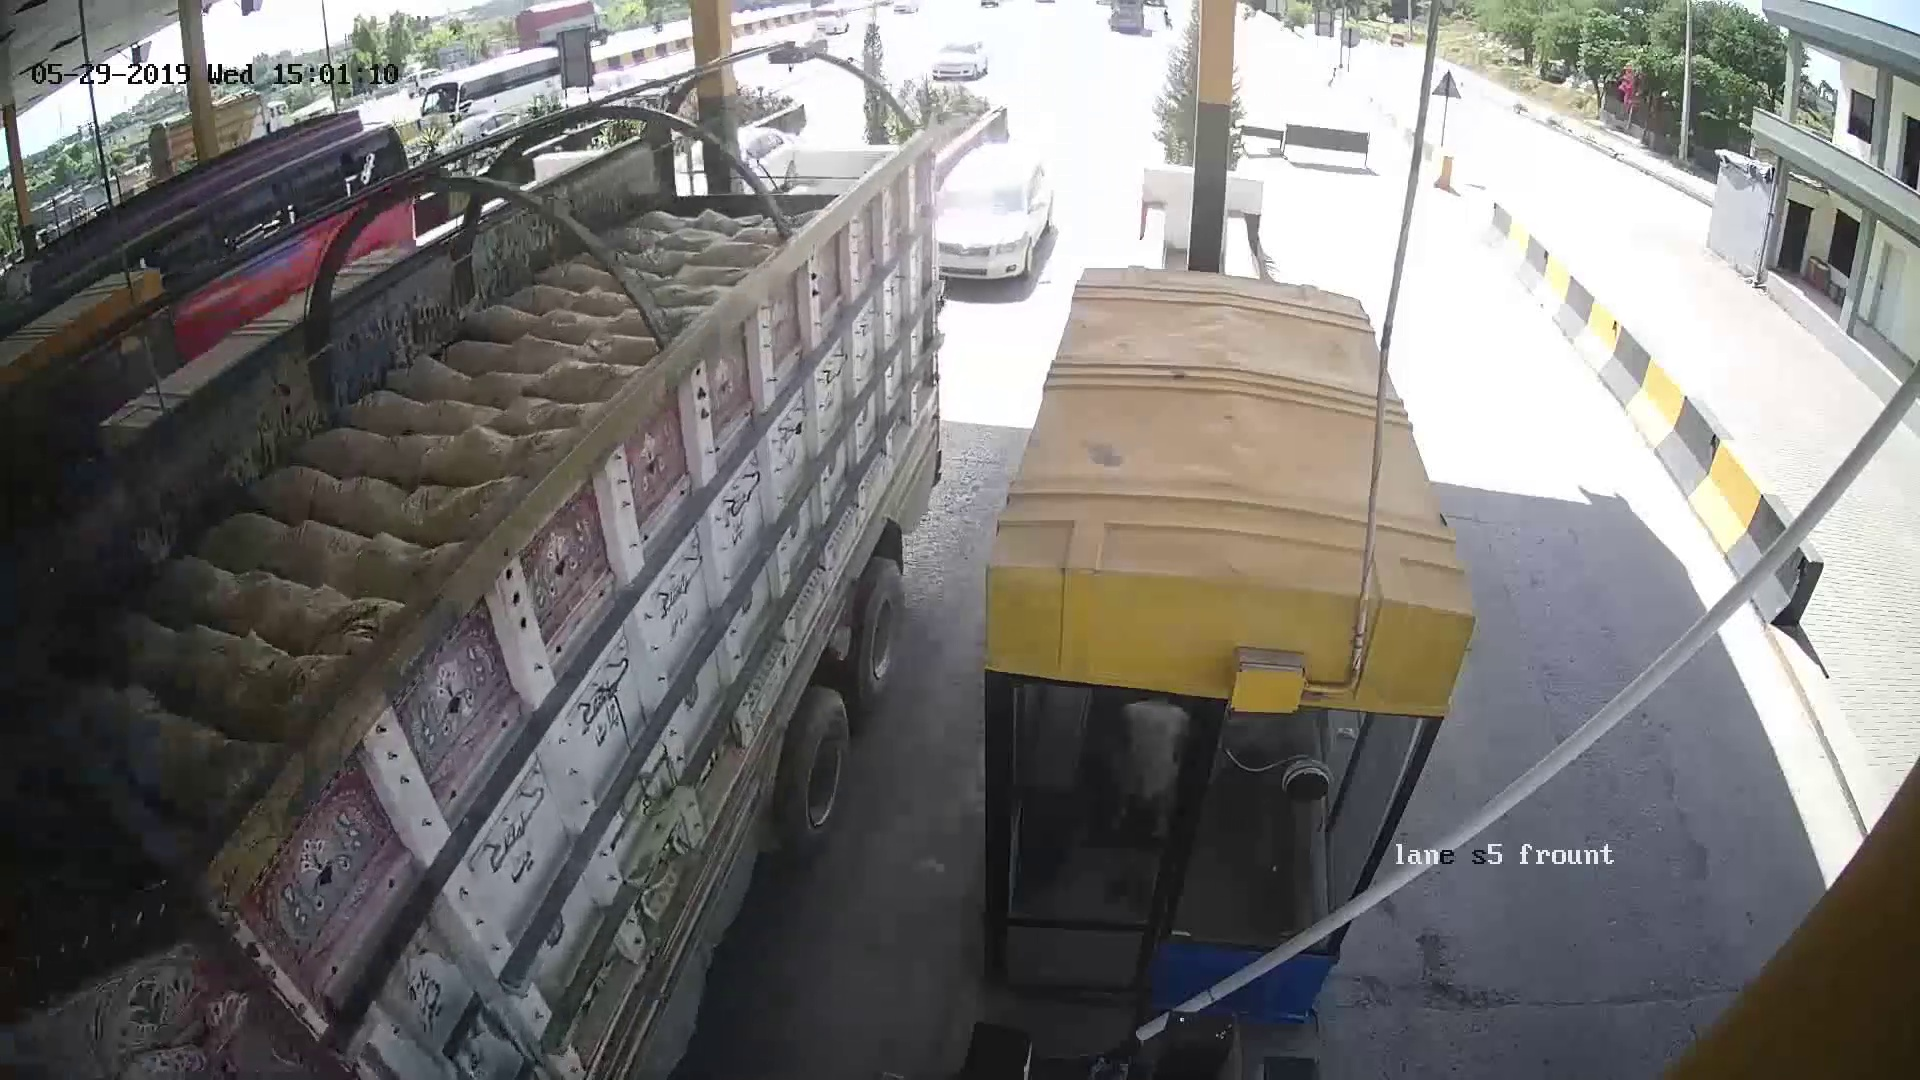car: (928, 135, 1064, 290)
